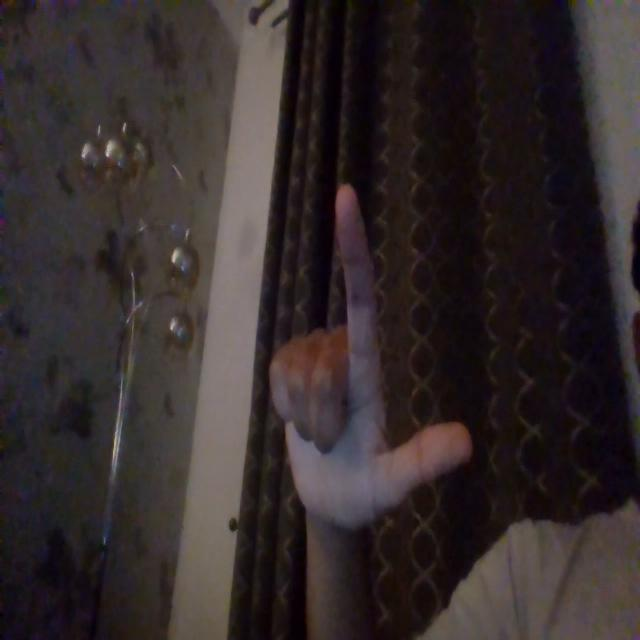hand thumb and index out: (266, 181, 475, 536)
